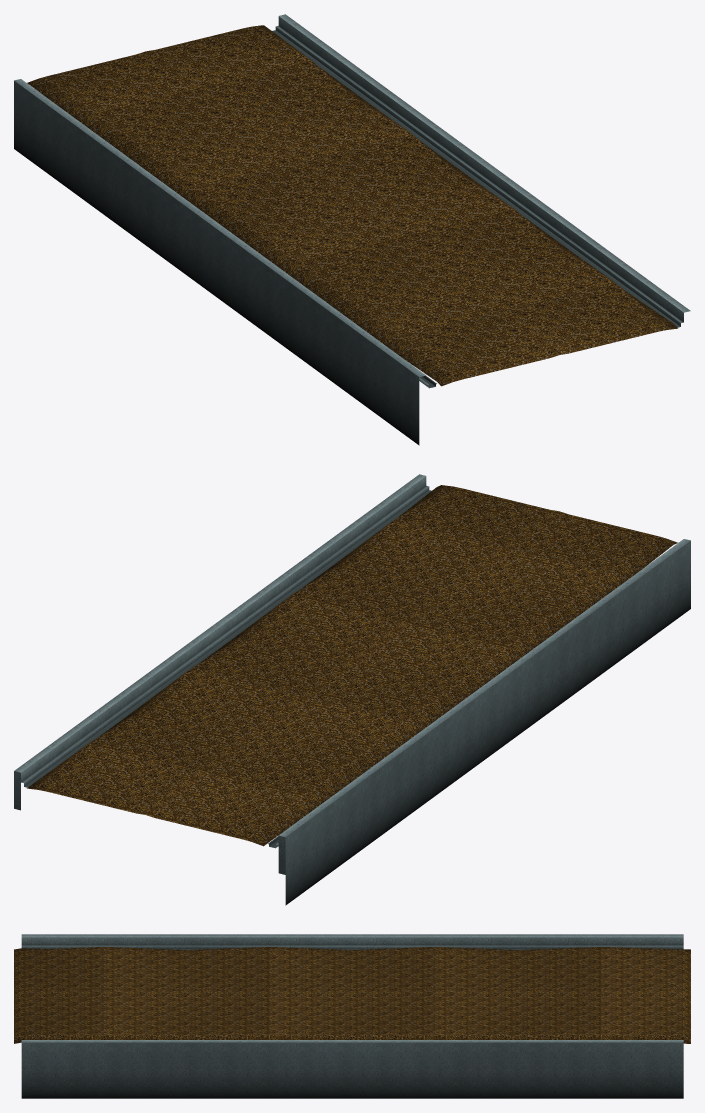
The model's file is K_3RAIL50.glb.
The picture shows the model from 3 angles, top to bottom: view 1: azimuth 30°, elevation 25°; view 2: azimuth 150°, elevation 25°; view 3: azimuth 270°, elevation 25°; orthographic projection. The views are drawn at different scales.
Parts seen in each view (by area): view 1: obj4; view 2: obj4; view 3: obj4.
Part boxes in pixels (x1=…): obj4: x1=14, y1=14, x2=690, y2=445; obj4: x1=14, y1=474, x2=690, y2=905; obj4: x1=14, y1=934, x2=690, y2=1098.
Bounding box in the file's own units: 38.67 × 9.31 × 102.
2 materials, 2 textured.
